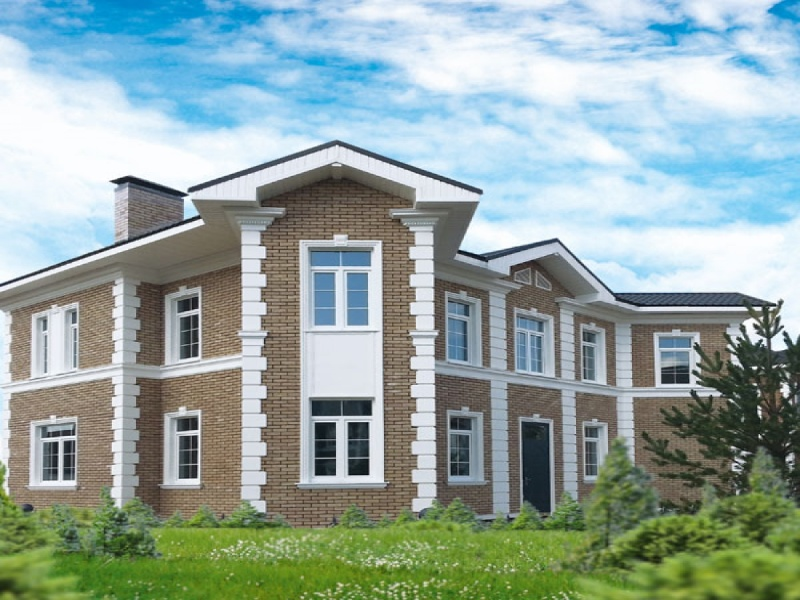window: (297, 241, 378, 329), (307, 394, 378, 481), (26, 404, 83, 490), (164, 281, 208, 369), (443, 402, 486, 488), (512, 302, 561, 375), (164, 400, 203, 491), (445, 290, 484, 371), (654, 331, 699, 385), (578, 317, 608, 382), (59, 304, 86, 373), (27, 312, 51, 371), (586, 420, 608, 476)
